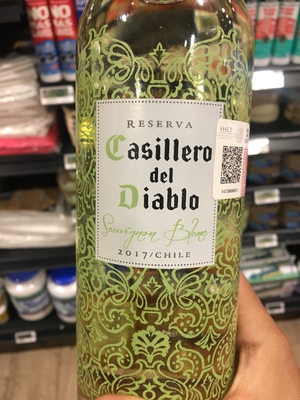casillero del diablo sauvignon blanc: (69, 10, 267, 385)
